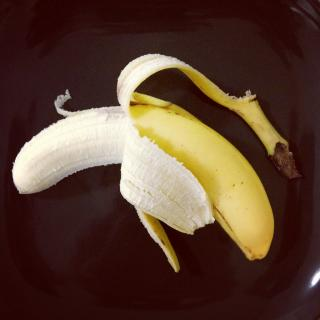Banana: (8, 54, 302, 273)
